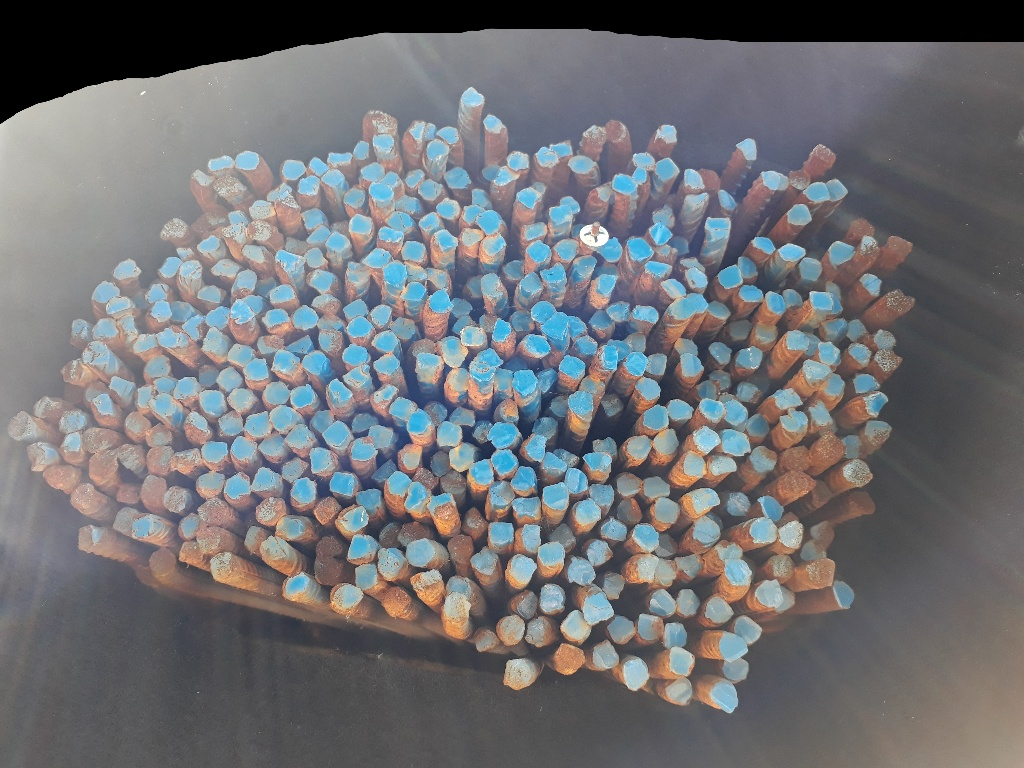dipstick: (560, 610, 591, 643), (554, 642, 583, 675), (583, 593, 612, 625), (508, 554, 536, 587), (801, 559, 834, 587), (376, 547, 405, 578), (497, 614, 525, 646), (504, 660, 533, 690), (411, 569, 442, 597), (399, 522, 432, 548), (382, 586, 411, 615), (5, 411, 33, 441), (197, 496, 227, 524), (255, 496, 285, 524), (711, 681, 738, 712), (622, 659, 648, 691), (89, 453, 117, 482), (348, 535, 376, 564), (115, 445, 145, 472), (148, 548, 175, 578), (331, 583, 363, 608), (542, 312, 570, 340), (720, 632, 748, 660), (441, 340, 468, 369), (569, 557, 596, 586), (406, 539, 434, 566), (525, 618, 553, 645), (592, 641, 619, 669), (608, 616, 635, 644), (735, 617, 761, 646), (275, 516, 305, 541), (462, 507, 487, 537), (270, 405, 297, 432), (124, 412, 151, 439), (637, 614, 664, 641), (542, 483, 569, 510), (90, 395, 116, 423), (324, 420, 350, 448), (309, 447, 335, 475), (196, 472, 224, 498), (261, 536, 287, 564), (472, 547, 500, 573), (448, 443, 474, 471), (647, 590, 675, 616), (631, 554, 657, 582), (633, 524, 659, 552), (721, 430, 749, 456), (816, 434, 844, 460), (540, 584, 565, 613), (670, 647, 695, 676), (704, 597, 733, 622), (141, 475, 165, 505), (489, 423, 519, 447), (263, 308, 290, 334), (145, 444, 172, 470), (59, 435, 85, 462), (283, 573, 310, 599), (435, 421, 462, 447), (491, 449, 518, 475), (693, 517, 719, 544), (766, 555, 792, 582), (756, 580, 782, 607), (355, 489, 383, 514), (428, 493, 456, 518), (389, 396, 417, 421), (843, 460, 871, 485), (340, 506, 369, 530), (404, 482, 428, 511), (885, 290, 914, 314), (786, 470, 815, 494), (371, 384, 397, 410), (550, 525, 576, 551), (654, 498, 680, 524), (59, 409, 86, 434), (200, 390, 227, 415), (173, 449, 200, 474), (445, 593, 470, 620), (513, 590, 538, 617), (513, 496, 540, 521), (511, 466, 536, 493), (692, 428, 719, 453), (415, 352, 443, 376), (691, 487, 719, 511), (315, 495, 338, 524), (655, 558, 678, 587), (272, 349, 298, 374), (302, 350, 327, 376), (228, 388, 254, 413), (489, 481, 515, 506), (538, 542, 564, 567), (666, 679, 692, 704), (586, 540, 612, 565), (617, 499, 642, 525), (722, 401, 747, 427), (725, 559, 750, 585), (231, 269, 255, 296), (77, 524, 101, 551), (211, 553, 235, 580), (225, 472, 249, 499), (349, 437, 376, 461), (886, 236, 913, 260), (821, 318, 848, 342), (750, 518, 777, 542), (368, 111, 396, 134), (84, 428, 112, 451), (779, 520, 802, 548), (109, 375, 134, 400), (216, 366, 241, 391), (147, 421, 172, 446), (251, 467, 276, 492), (751, 446, 776, 471), (246, 412, 272, 436), (370, 460, 396, 484), (446, 367, 470, 393), (663, 622, 687, 648), (589, 311, 615, 335), (829, 242, 853, 268), (307, 270, 334, 293), (344, 365, 371, 388), (184, 412, 207, 439), (42, 465, 69, 488), (353, 564, 376, 591), (386, 211, 413, 234), (676, 588, 699, 615), (33, 396, 61, 418), (27, 442, 49, 470), (780, 411, 808, 433), (519, 524, 540, 553), (492, 165, 521, 186), (244, 358, 269, 382), (286, 425, 310, 450), (282, 457, 306, 482), (407, 411, 432, 435), (576, 501, 600, 526), (569, 391, 593, 416), (653, 429, 677, 454), (432, 229, 457, 253), (531, 301, 556, 325), (841, 435, 866, 459), (145, 355, 171, 378), (173, 377, 199, 400), (151, 394, 174, 420), (468, 460, 494, 483), (487, 522, 513, 545), (627, 237, 653, 260), (699, 399, 725, 422), (849, 492, 875, 515), (92, 281, 119, 303), (93, 318, 120, 340), (398, 444, 420, 471), (603, 573, 625, 600), (245, 525, 266, 553), (521, 335, 549, 356), (197, 284, 226, 304), (113, 507, 137, 531), (644, 405, 668, 429), (718, 265, 742, 289), (866, 420, 890, 444), (809, 402, 833, 426), (810, 521, 834, 545), (229, 299, 252, 324), (291, 306, 316, 329), (83, 342, 108, 365), (317, 329, 342, 352), (309, 409, 334, 432), (330, 473, 355, 496), (497, 398, 520, 423), (541, 452, 566, 475), (626, 436, 651, 459), (534, 368, 557, 393), (423, 267, 448, 290), (476, 210, 501, 233), (368, 182, 393, 205), (684, 451, 707, 476), (723, 658, 748, 681), (201, 441, 227, 463), (68, 484, 94, 506), (314, 562, 340, 584), (514, 369, 536, 395), (523, 435, 545, 461), (615, 473, 641, 495), (643, 477, 669, 499), (559, 355, 585, 377), (875, 350, 901, 372), (804, 360, 830, 382), (114, 259, 141, 280), (276, 249, 303, 270), (468, 361, 495, 382), (553, 240, 580, 261), (363, 248, 391, 268), (204, 306, 228, 329), (290, 385, 314, 408), (265, 381, 289, 404), (163, 487, 186, 511), (131, 514, 154, 538), (291, 479, 314, 503), (383, 261, 407, 284), (601, 394, 625, 417), (865, 392, 888, 416), (311, 294, 340, 313), (773, 389, 802, 408), (328, 379, 350, 404), (218, 411, 243, 433), (231, 437, 256, 459), (446, 576, 471, 598), (589, 484, 614, 506), (656, 532, 678, 557), (635, 379, 660, 401), (511, 310, 536, 332), (445, 166, 470, 188), (606, 301, 631, 323), (668, 399, 693, 421), (737, 347, 762, 369), (736, 382, 761, 404), (787, 447, 812, 469), (758, 498, 783, 520), (676, 556, 701, 578), (136, 386, 157, 412), (447, 536, 473, 557), (601, 519, 627, 540), (774, 585, 795, 611), (259, 435, 286, 455), (584, 452, 611, 472), (710, 454, 737, 474), (834, 581, 854, 608), (346, 261, 369, 284), (708, 341, 731, 364), (818, 342, 841, 365), (182, 316, 204, 340), (374, 354, 398, 376), (179, 541, 203, 563), (316, 537, 340, 559), (388, 471, 410, 495), (472, 419, 494, 443), (436, 198, 460, 220), (814, 145, 836, 169), (747, 413, 769, 437), (727, 491, 749, 515), (850, 217, 874, 239), (161, 218, 186, 239), (203, 328, 224, 353), (61, 360, 86, 381), (343, 344, 368, 365), (373, 331, 398, 352), (370, 425, 391, 450), (413, 469, 438, 490), (460, 325, 485, 346), (786, 204, 811, 225), (801, 541, 826, 562), (157, 327, 183, 347), (342, 299, 368, 319), (811, 480, 831, 506), (716, 542, 742, 562), (248, 219, 271, 241), (428, 290, 451, 312), (475, 629, 497, 652), (565, 469, 587, 492), (581, 375, 604, 397), (799, 258, 822, 280), (859, 274, 881, 297), (680, 354, 702, 377), (158, 257, 182, 278), (223, 225, 247, 246), (347, 317, 371, 338), (352, 413, 376, 434), (390, 319, 414, 340), (533, 418, 557, 439), (696, 380, 720, 401), (359, 162, 384, 182), (450, 407, 475, 427), (598, 345, 618, 370), (540, 264, 565, 284), (632, 305, 657, 325), (670, 298, 695, 318), (804, 182, 829, 202), (214, 177, 240, 196), (612, 174, 638, 193), (256, 335, 283, 353), (852, 374, 879, 392), (180, 260, 202, 282), (600, 238, 622, 260), (145, 282, 168, 303), (349, 214, 372, 235), (197, 364, 218, 387), (429, 452, 450, 475), (441, 471, 464, 492), (656, 159, 679, 180), (753, 323, 776, 344), (849, 344, 870, 367), (276, 193, 300, 213), (228, 343, 252, 363), (402, 281, 426, 301), (481, 234, 505, 254), (249, 201, 274, 220), (525, 242, 550, 261), (660, 279, 685, 298), (344, 186, 365, 208), (370, 305, 391, 327), (575, 336, 597, 357), (605, 120, 626, 142), (503, 260, 525, 281), (480, 274, 502, 295), (520, 272, 542, 293), (565, 315, 586, 337), (826, 178, 847, 200), (282, 159, 305, 179), (593, 438, 616, 458), (626, 351, 646, 374), (517, 188, 540, 208), (765, 291, 785, 314), (475, 348, 502, 365), (70, 319, 89, 343), (235, 151, 259, 170), (133, 335, 157, 354), (318, 315, 342, 334), (401, 242, 425, 261), (861, 235, 880, 259), (269, 285, 294, 303), (212, 259, 238, 276), (198, 528, 219, 549), (491, 367, 512, 388), (419, 212, 440, 233), (656, 124, 677, 145), (683, 169, 704, 190), (846, 320, 867, 341), (150, 301, 170, 323), (171, 301, 193, 321), (425, 402, 447, 422), (426, 141, 448, 161), (650, 224, 672, 244), (687, 291, 707, 313), (810, 291, 832, 311), (728, 319, 750, 339), (709, 371, 731, 391), (326, 233, 349, 252), (372, 135, 395, 154), (583, 125, 606, 144), (241, 245, 265, 263), (207, 155, 234, 171), (397, 196, 421, 214), (568, 156, 595, 172), (523, 222, 547, 240), (778, 244, 805, 260), (463, 205, 484, 225), (626, 333, 647, 353), (699, 170, 719, 191), (507, 151, 529, 170), (647, 354, 666, 376), (718, 189, 737, 211), (551, 395, 569, 418), (461, 88, 484, 106), (706, 217, 729, 235), (675, 338, 698, 356), (378, 227, 403, 243), (575, 256, 595, 276), (686, 268, 706, 288), (874, 329, 894, 349), (492, 320, 511, 341), (472, 189, 491, 210), (707, 301, 728, 320), (738, 257, 757, 278), (788, 170, 809, 189), (786, 331, 807, 350), (302, 209, 324, 227), (436, 127, 458, 145), (550, 142, 572, 160), (752, 237, 774, 255), (452, 316, 475, 333), (460, 228, 483, 245), (549, 206, 572, 223), (739, 285, 762, 302), (466, 275, 482, 299), (299, 175, 319, 194), (782, 290, 802, 309), (451, 298, 472, 316), (536, 148, 557, 166), (589, 187, 610, 205), (646, 262, 671, 277), (419, 180, 441, 197), (306, 226, 329, 242), (825, 374, 844, 393), (303, 248, 323, 266), (656, 241, 676, 259), (198, 236, 219, 253), (409, 120, 426, 141), (633, 153, 654, 170), (739, 138, 756, 159), (107, 298, 129, 314), (190, 170, 212, 186), (413, 340, 435, 356), (405, 170, 424, 188), (596, 274, 615, 292), (761, 170, 779, 189), (560, 196, 580, 213), (327, 152, 352, 165), (229, 211, 249, 227), (322, 170, 342, 186), (309, 157, 326, 175), (353, 142, 370, 160), (483, 115, 501, 132), (483, 165, 500, 180)
